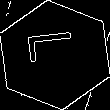L_E: (26, 37, 84, 73)
